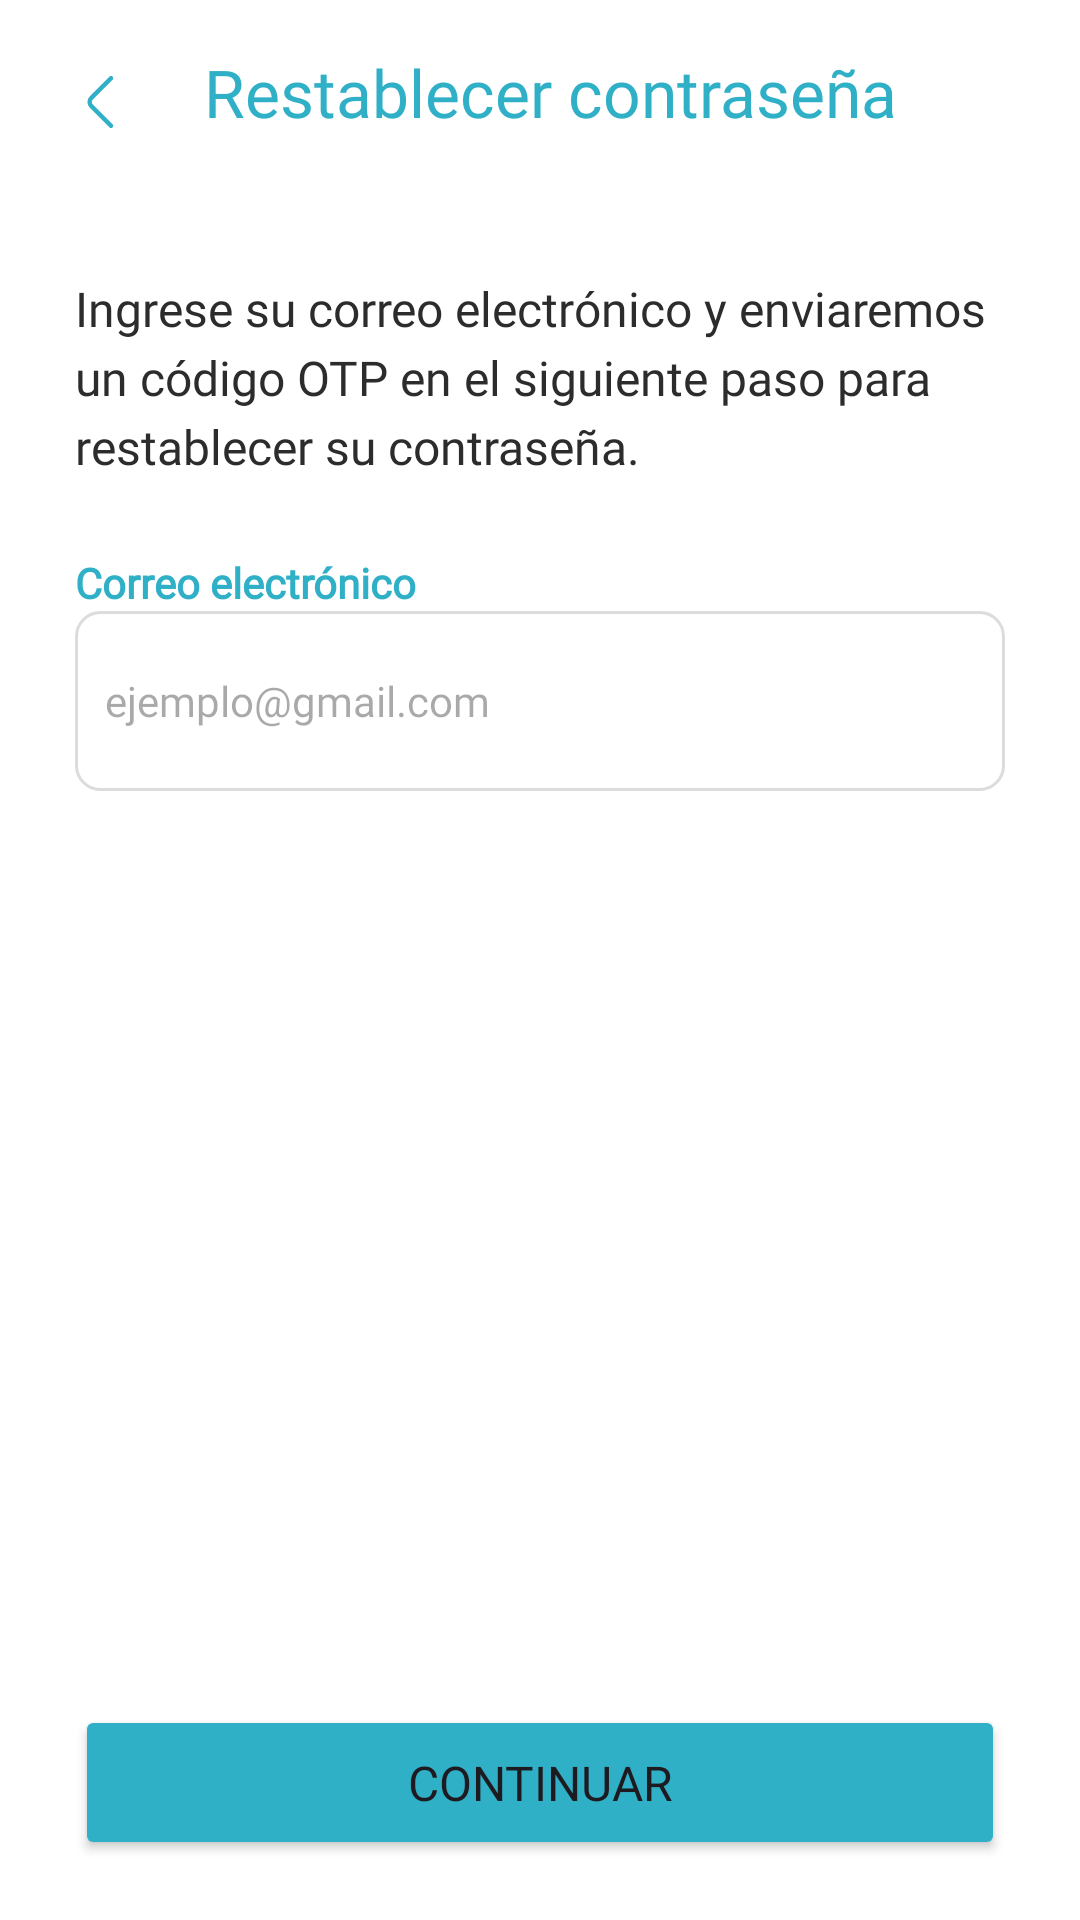

Named icons in this screenshot (1080px×1920px) and their centers, point (x, y):
back: point (100, 102)
